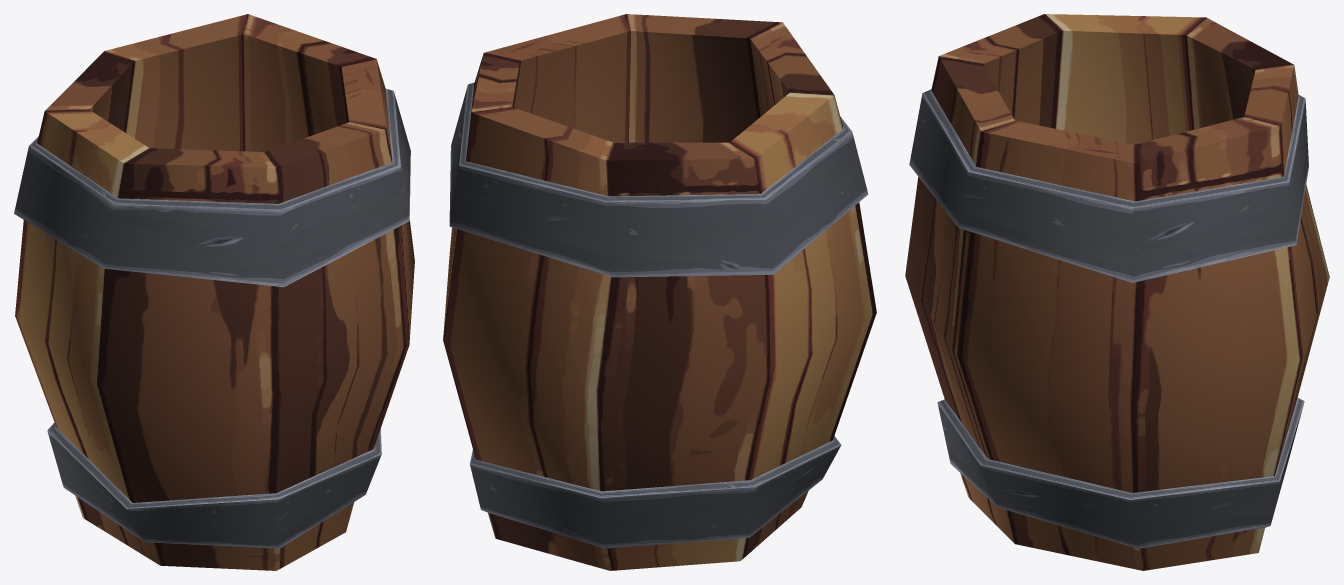
Rendered from SM_PROP_barrel_02.fbx.
3 renders of one model, left to right at view 1: azimuth 30°, elevation 25°; view 2: azimuth 150°, elevation 25°; view 3: azimuth 270°, elevation 25°, orthographic. The views are drawn at different scales.
Visible parts, largest first — view 1: SM_PROP_barrel_02; view 2: SM_PROP_barrel_02; view 3: SM_PROP_barrel_02.
Part boxes in pixels (<box>): SM_PROP_barrel_02: <box>14,14,414,570</box>; SM_PROP_barrel_02: <box>443,14,876,570</box>; SM_PROP_barrel_02: <box>905,14,1329,570</box>.
Size of the model in its own units: 77.06 by 84.39 by 74.86.
